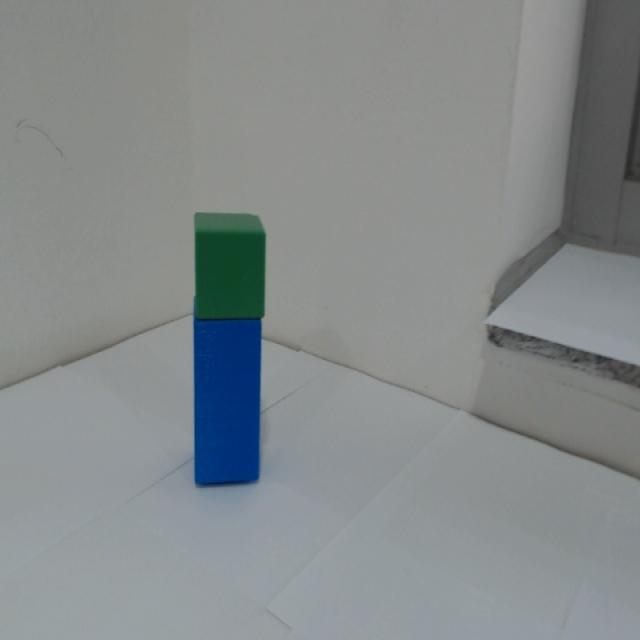cube: (188, 211, 269, 318)
